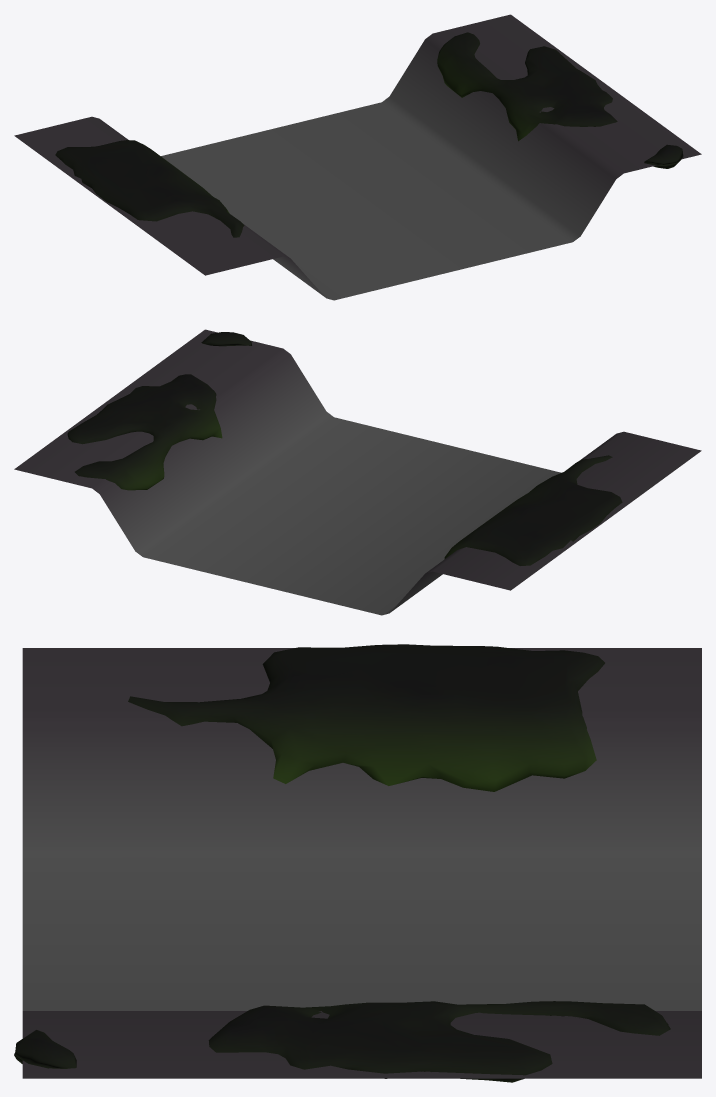
Rendered from SM_Sewer_Ground_04.fbx.
3 renders of one model, top to bottom at view 1: azimuth 30°, elevation 25°; view 2: azimuth 150°, elevation 25°; view 3: azimuth 270°, elevation 25°, orthographic. The views are drawn at different scales.
Parts seen in each view (by area): view 1: transform10; view 2: transform10; view 3: transform10.
Boxes of the visible parts, x1=… form: transform10: x1=14, y1=14, x2=701, y2=300; transform10: x1=14, y1=329, x2=701, y2=615; transform10: x1=14, y1=644, x2=701, y2=1082.
Bounding box in the file's own units: 600 × 74.08 × 405.
